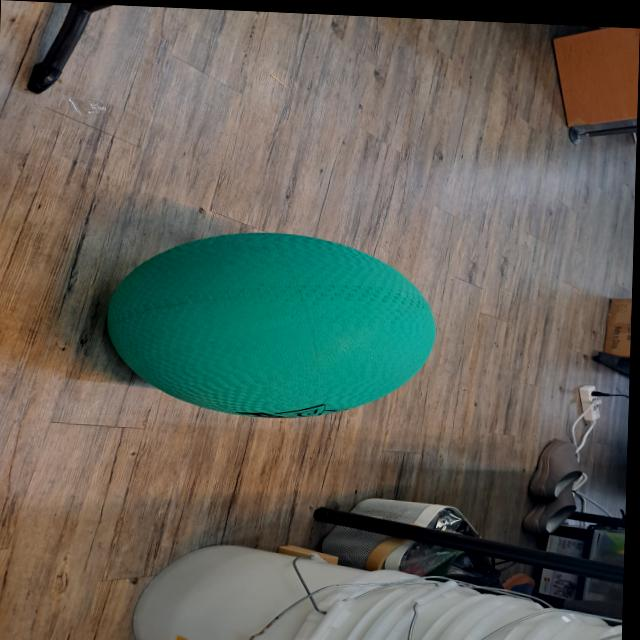ALGAE: (101, 223, 443, 428)
